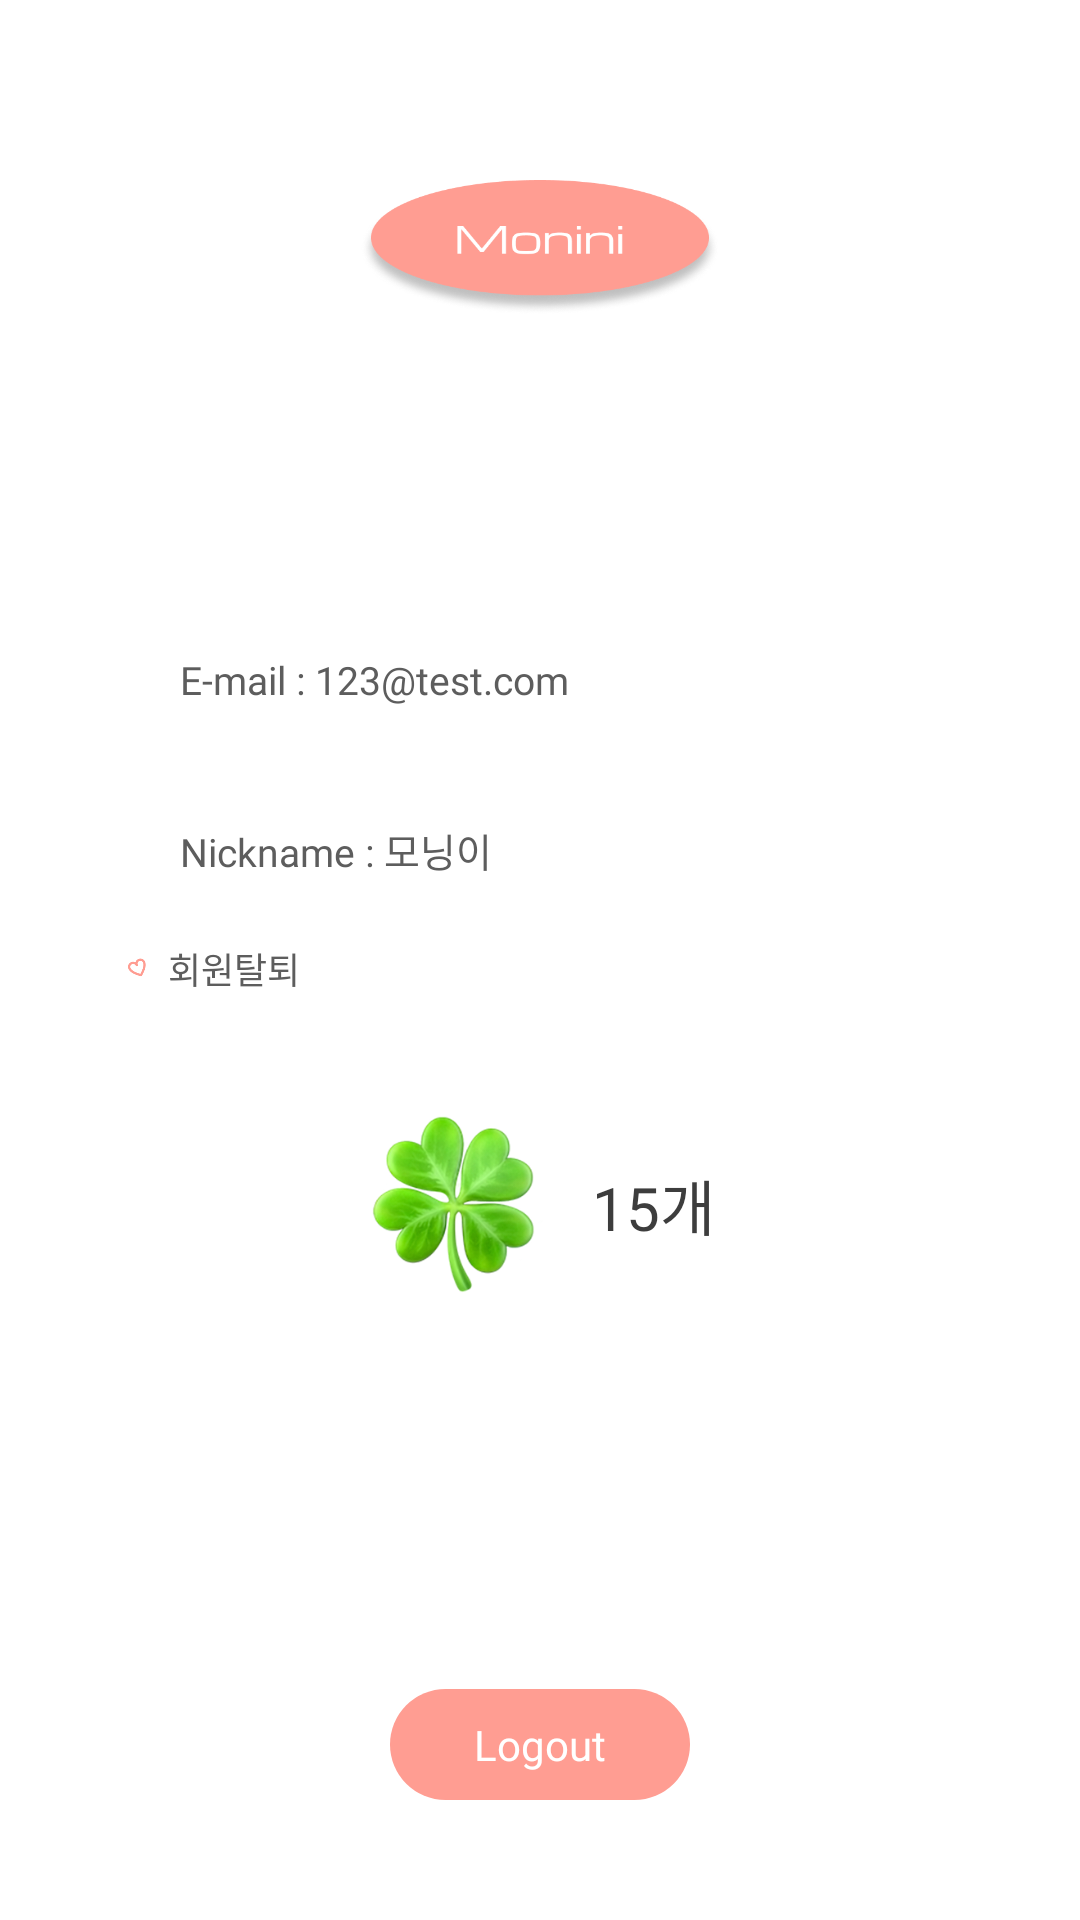

Icons on this 1080*1920 Android screen, each with the point to tap as point (x, y):
clover: point (453, 1204)
